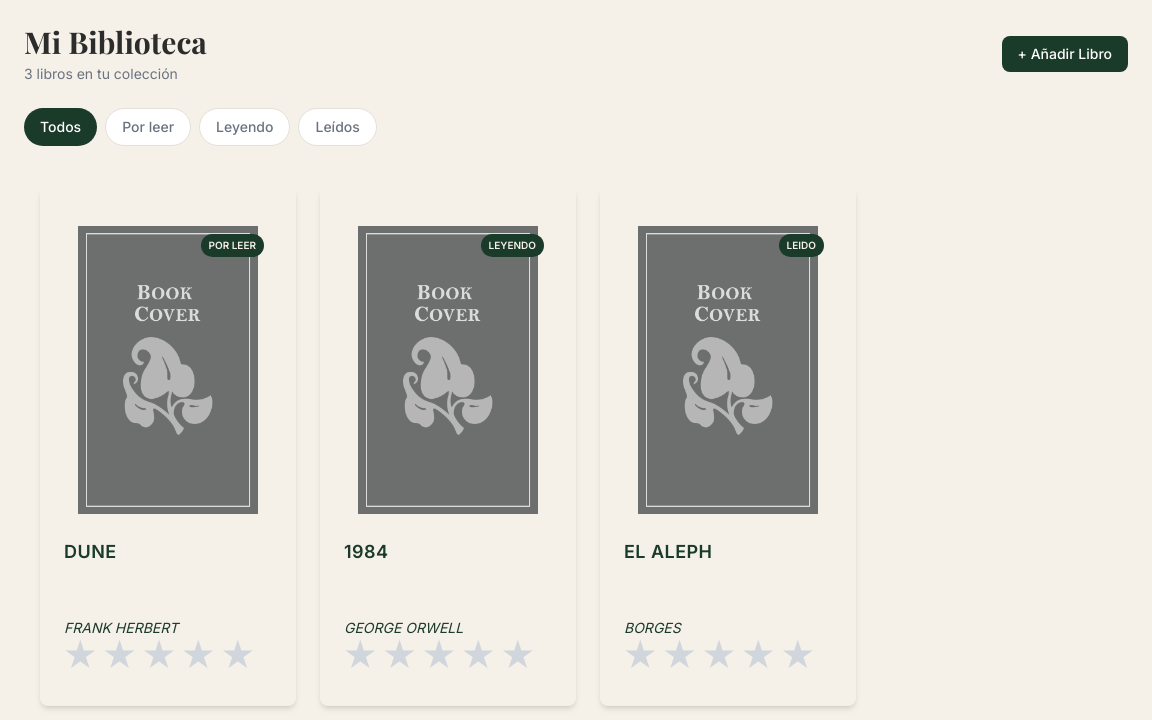
Biblioteca › filtra libros por estado al hacer click en un filtro
This screenshot has width=1152, height=720.
expect the text "Dune" is shown: met, box [64,541,117,562]
Click the button "Leyendo" at (245, 127), box [199,108,290,146]
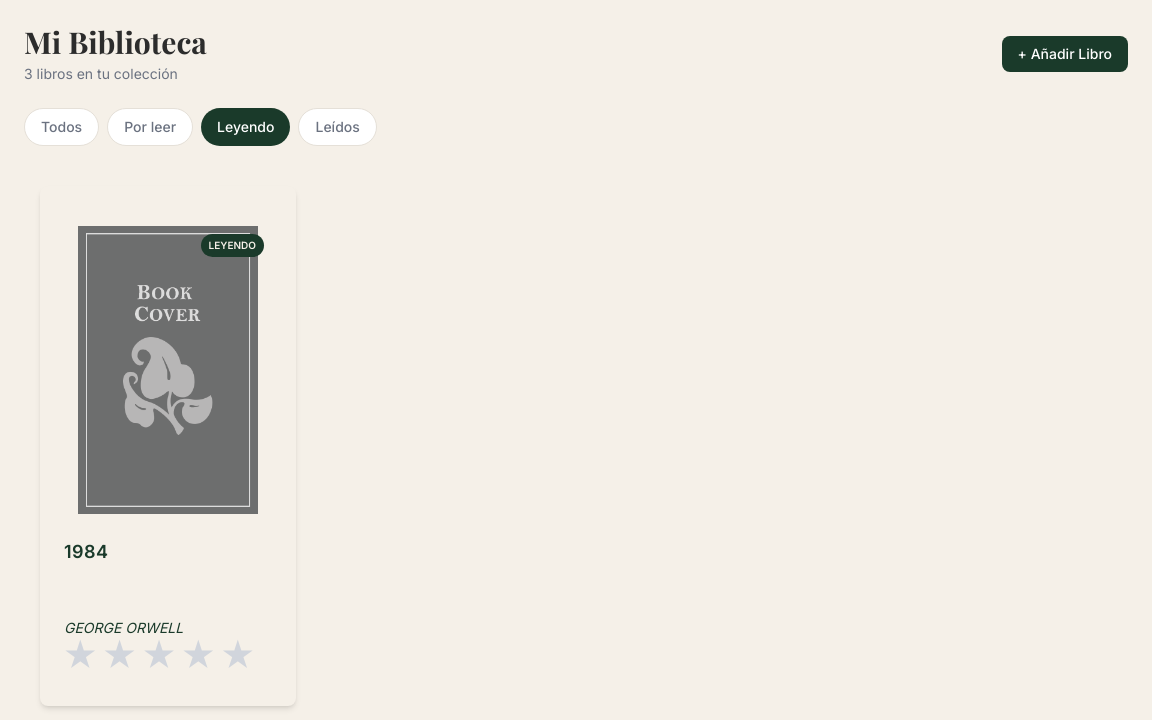
expect the text "1984" is shown: met, box [64,541,108,562]
expect the text "Dune" is gone: met
expect the text "El Aleph" is gone: met
